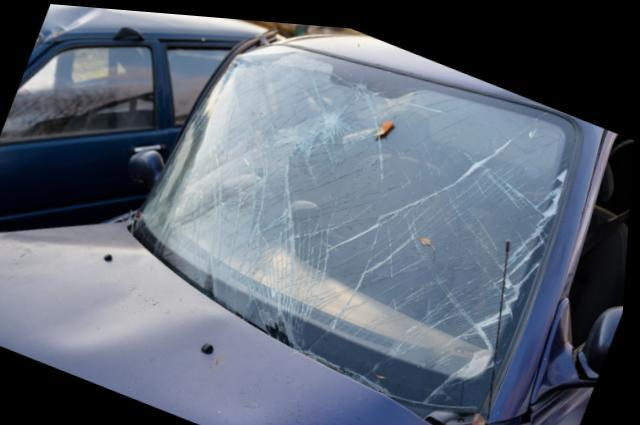dent: (0, 229, 300, 425)
glass shatter: (133, 39, 577, 399)
